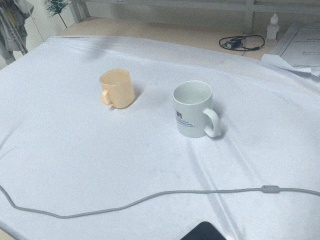cup: (171, 79, 226, 140), (99, 68, 136, 110)
